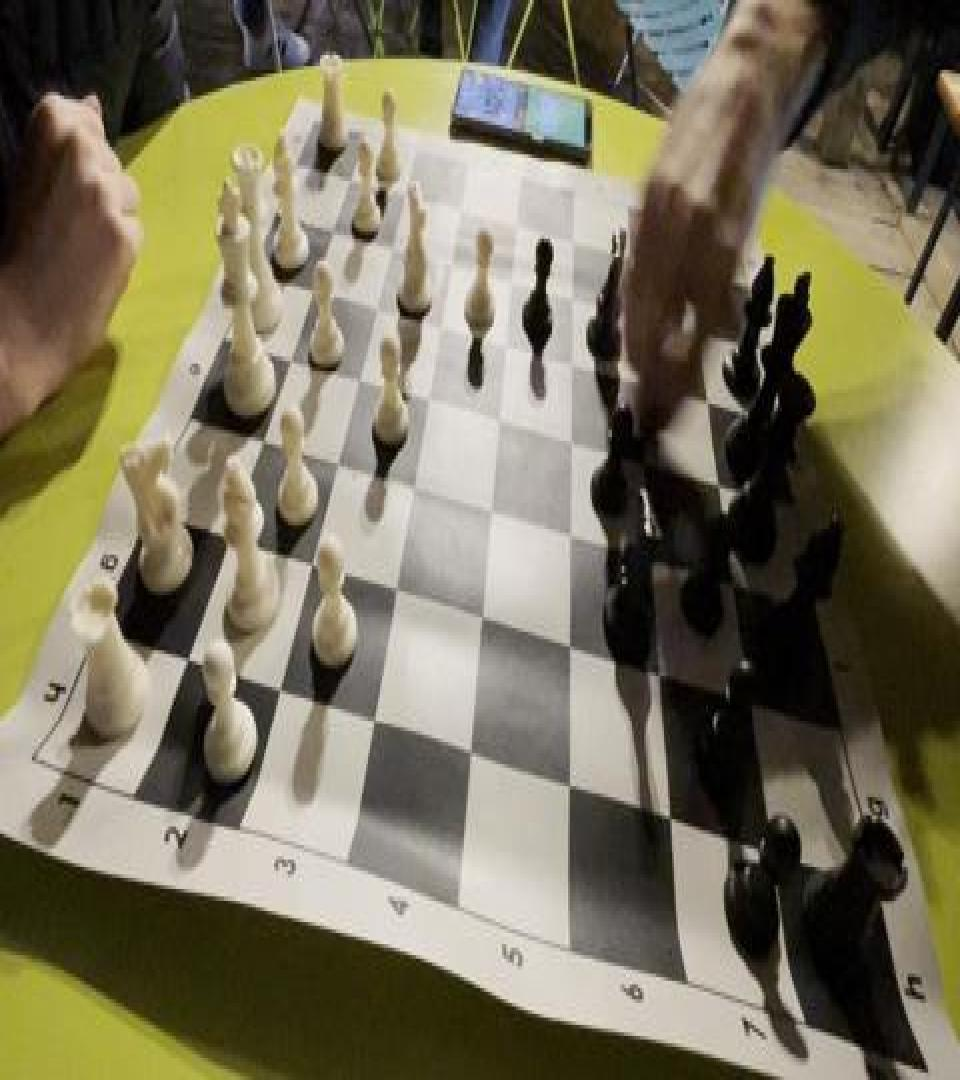xcorner: (677, 248, 701, 292), (619, 232, 643, 276), (562, 217, 586, 261), (505, 200, 529, 244), (449, 184, 473, 228), (393, 169, 417, 213), (338, 152, 362, 196), (686, 307, 710, 351), (624, 288, 648, 332), (562, 270, 586, 314), (501, 254, 525, 298), (440, 235, 464, 279), (381, 218, 405, 262), (322, 200, 346, 244), (697, 373, 721, 417), (629, 352, 653, 396), (562, 334, 586, 378), (496, 314, 520, 358), (430, 296, 454, 340), (366, 276, 390, 320), (302, 257, 326, 301), (709, 454, 733, 498), (635, 430, 659, 474), (562, 408, 586, 452), (490, 388, 514, 432), (419, 366, 443, 410), (348, 344, 372, 388), (279, 324, 303, 368), (724, 549, 748, 593), (642, 523, 666, 567), (562, 498, 586, 542), (483, 474, 507, 518), (404, 450, 428, 494), (327, 426, 351, 470), (252, 402, 276, 446), (742, 667, 766, 711), (651, 638, 675, 682), (562, 608, 586, 652), (474, 580, 498, 624), (387, 553, 411, 597), (302, 526, 326, 570), (218, 498, 242, 542), (765, 814, 789, 858), (663, 779, 687, 823), (562, 746, 586, 790), (463, 712, 487, 756), (366, 680, 390, 724), (270, 648, 294, 692), (177, 617, 201, 661)
